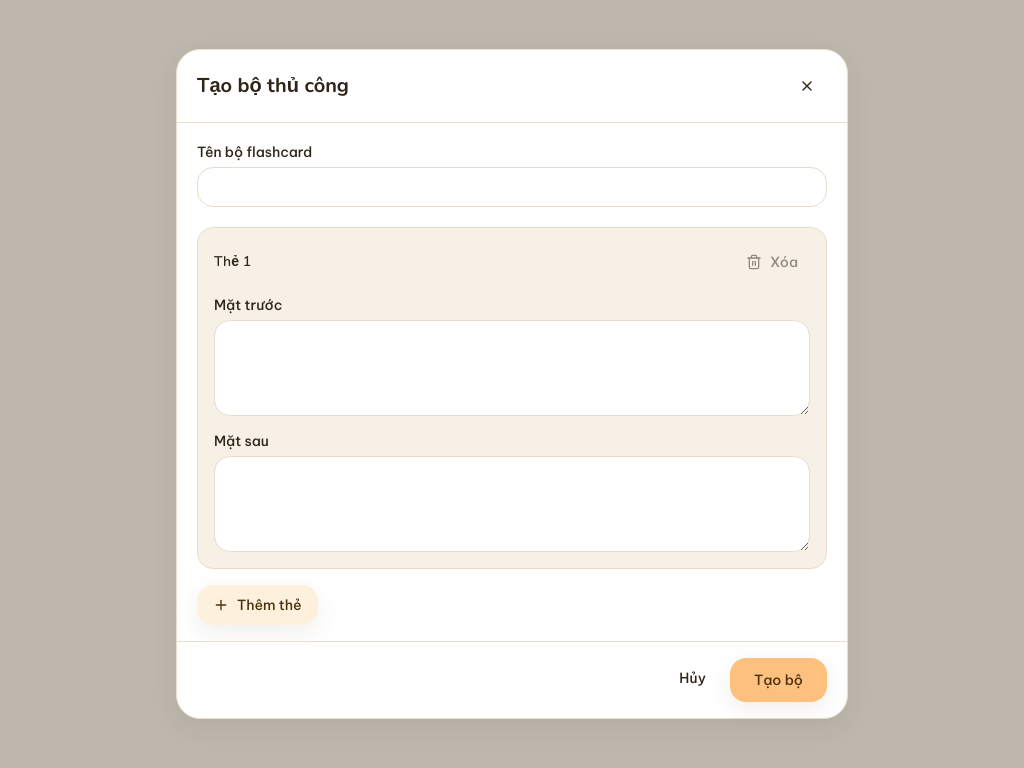
ManualSetForm › shows inline field errors and focuses the first invalid field
Click the button "Tạo bộ" at (778, 680), box [730,658,827,702]
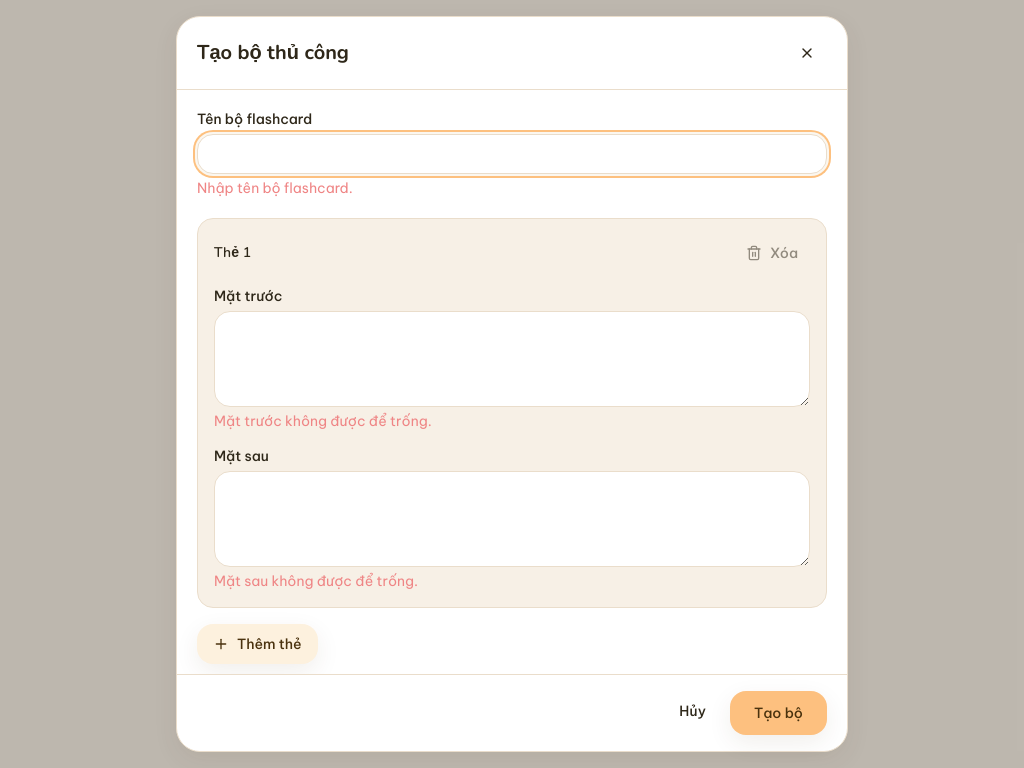
expect the text "Nhập tên bộ flashcard." is shown: met, box [197,179,353,197]
expect the text "Mặt trước không được để trống." is shown: met, box [214,412,432,430]
expect the text "Mặt sau không được để trống." is shown: met, box [214,572,418,590]
